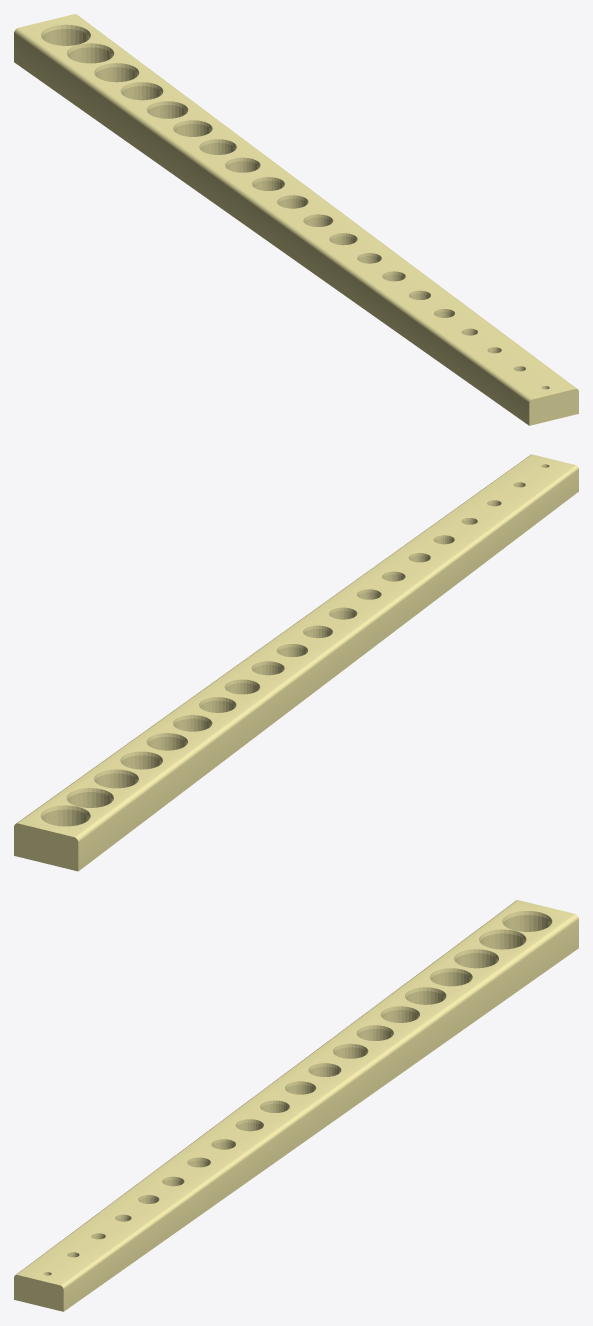
Rendered from SandPlatform.fbx.
3 views of the same model, one above another, from view 1: azimuth 30°, elevation 25°; view 2: azimuth 150°, elevation 25°; view 3: azimuth 330°, elevation 25° (orthographic).
Visible parts, largest first — view 1: Cube.005; view 2: Cube.005; view 3: Cube.005.
Part boxes in pixels (x1=…): Cube.005: x1=14, y1=14, x2=578, y2=425; Cube.005: x1=14, y1=454, x2=578, y2=871; Cube.005: x1=14, y1=900, x2=578, y2=1311.
Size of the model in its own units: 368 by 182 by 5035.
Materials: 1 (1 with a texture image).
